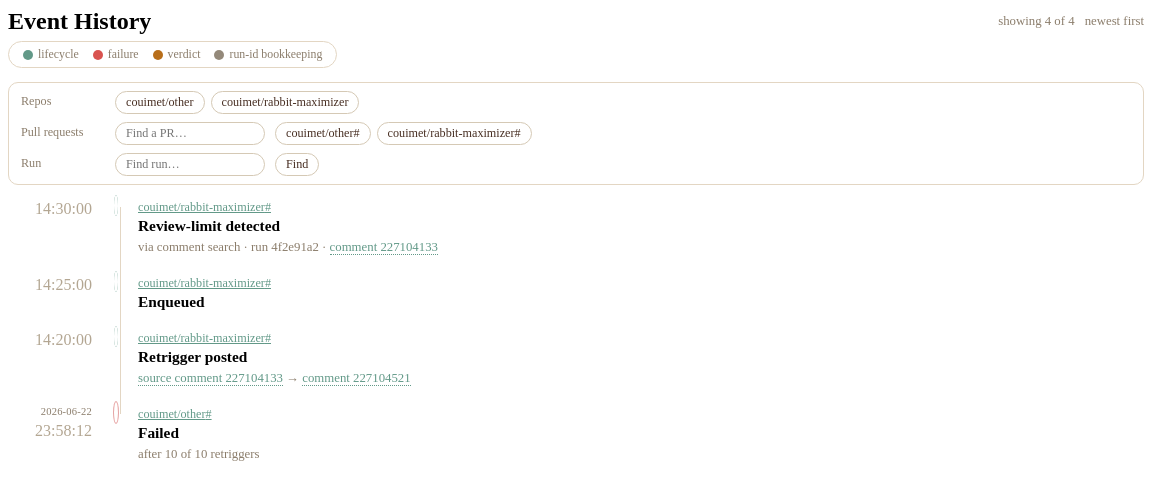
Test: EventHistory › filter › narrows the timeline to a selected repo and restores it when deselected
Expected: the text "showing 4 of 4" is shown, x1=998 y1=14 x2=1075 y2=29
What coordinates should you click on to do the following:
click the button "couimet/rabbit-maximizer"
I would click on:
 (285, 102)
Its box is x1=210 y1=91 x2=359 y2=114.
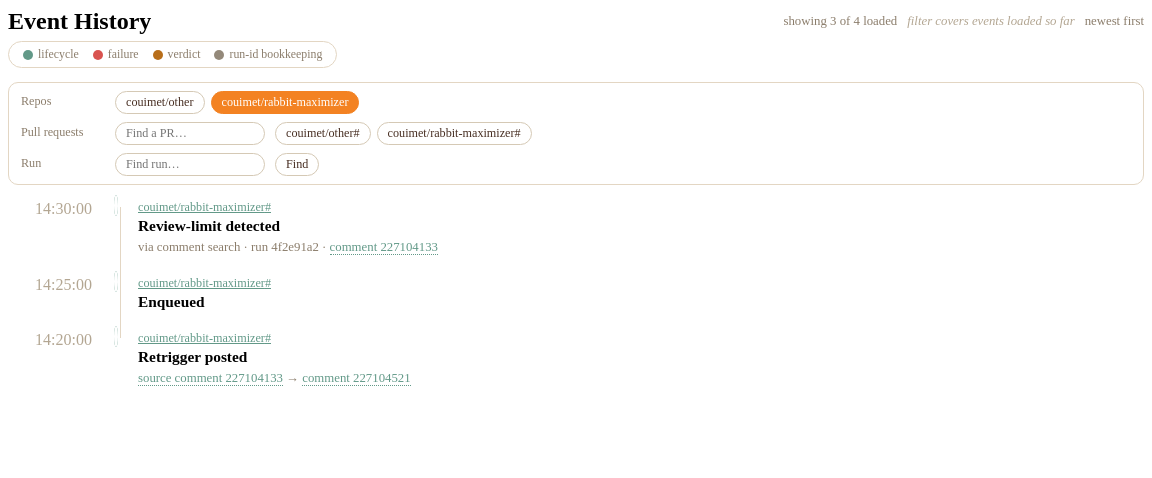
Now the text "showing 3 of 4 loaded" is shown, box x1=784 y1=14 x2=897 y2=29
Now the text "filter covers events loaded so far" is shown, box x1=907 y1=14 x2=1075 y2=29
Now the text "Failed" is gone
What coordinates should you click on to do the following:
click the button "couimet/rabbit-maximizer"
I would click on:
 (285, 102)
Its box is x1=210 y1=91 x2=359 y2=114.
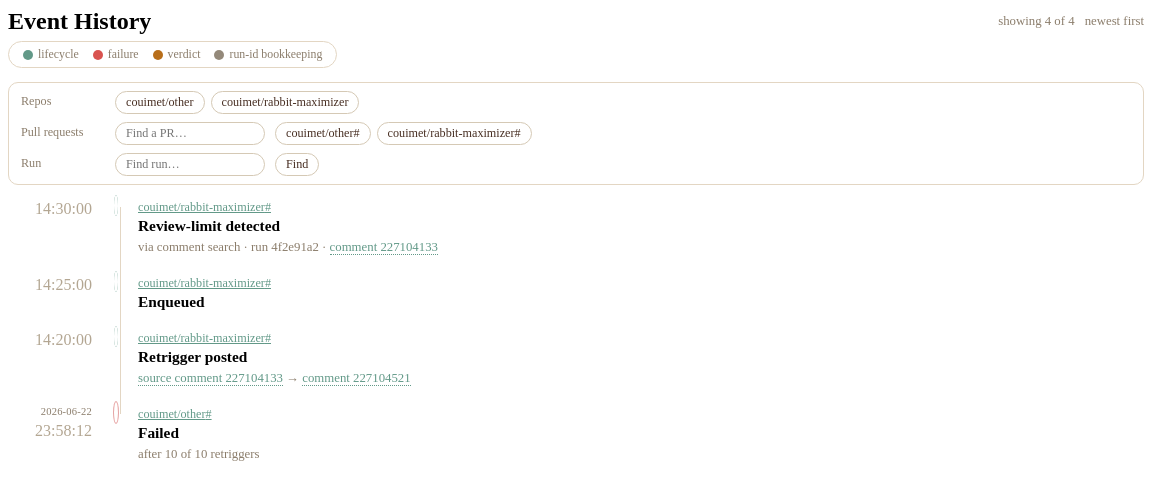
Now the text "showing 4 of 4" is shown, box x1=998 y1=14 x2=1075 y2=29
Now the text "filter covers events loaded so far" is gone
Now the text "Failed" is shown, box x1=138 y1=424 x2=179 y2=441
